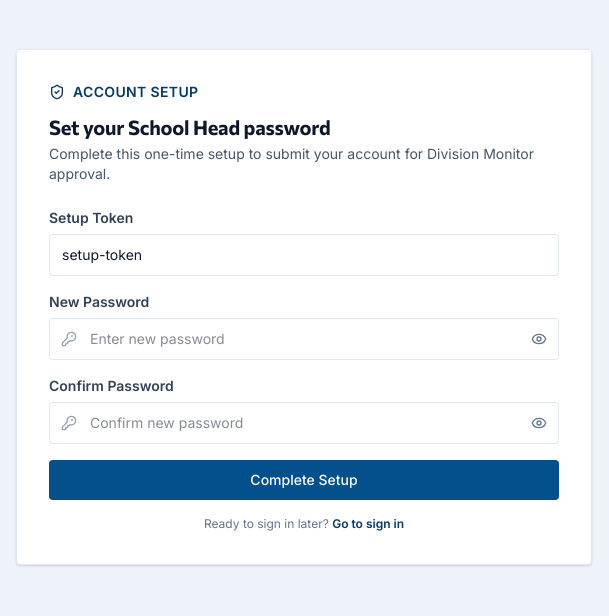
Test: auth recovery service-unavailable errors › maps account-setup bare 503 failures to safe copy
Type "Demo@123456" into the password field labelled "New Password".
click(304, 339); type("Demo@123456")  # box [49, 318, 559, 360]
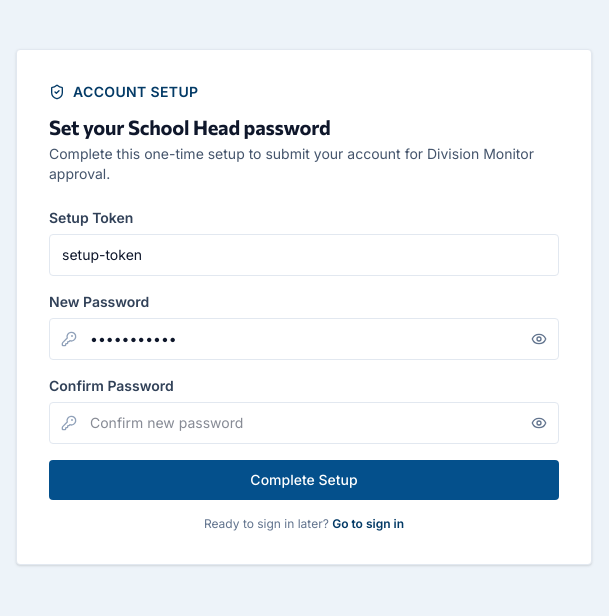
Type "Demo@123456" into the password field labelled "Confirm Password".
click(304, 423); type("Demo@123456")  # box [49, 402, 559, 444]
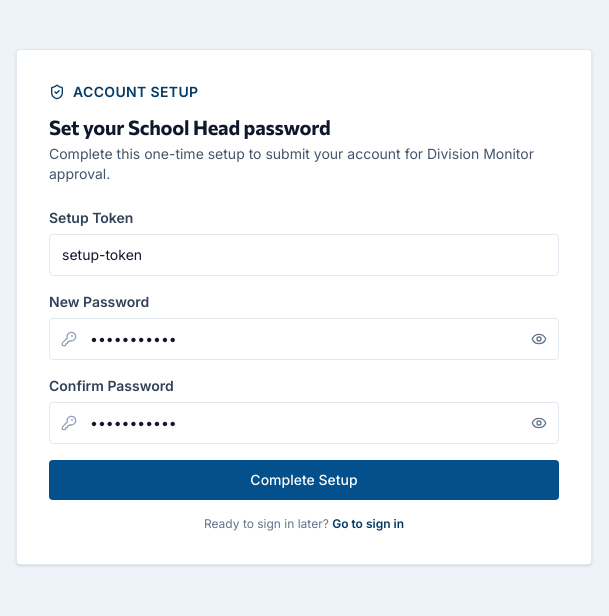
Submit the form "Complete Setup", box [49, 208, 559, 532]
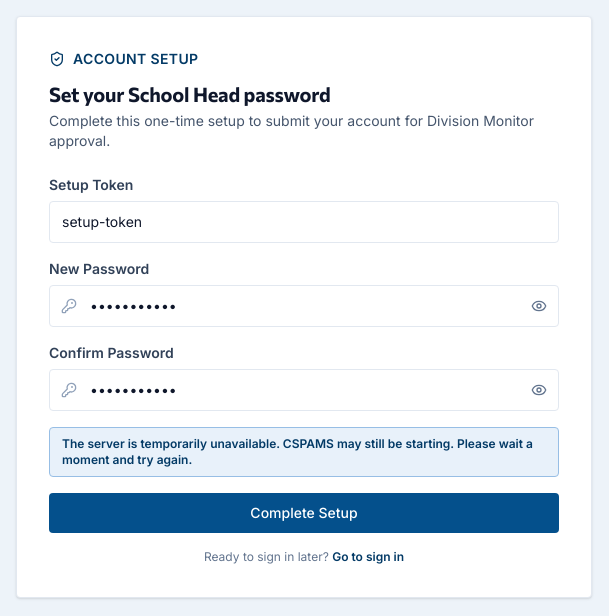
Check: the text "The server is temporarily unavailable. CSPAMS may still be starting. Please wait a moment and try again." is shown, box [62, 436, 533, 467]
